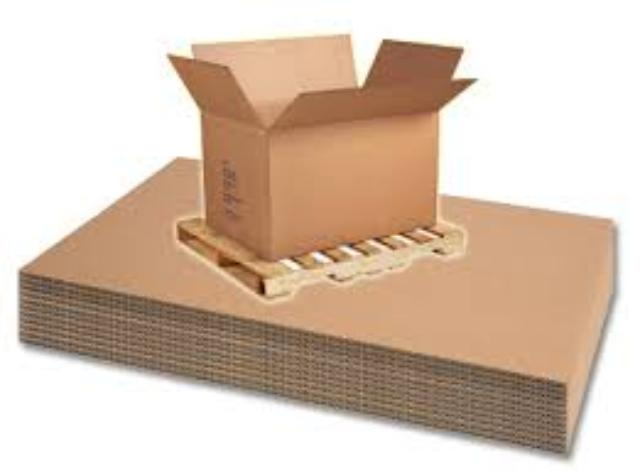cardboard paper: (17, 154, 611, 446), (167, 32, 468, 255)
